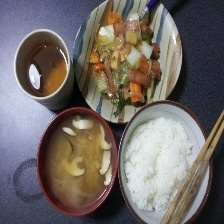sabzi: (89, 11, 164, 108)
